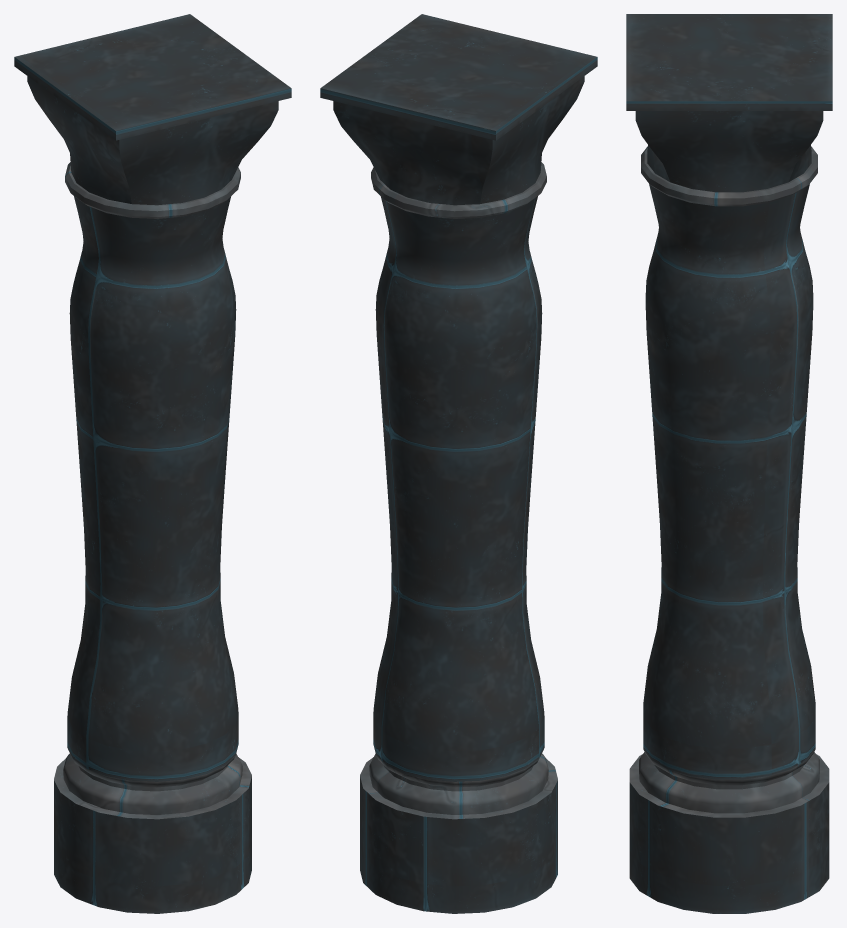
The model's file is Cathedral_Pillar_1.fbx.
3 views of the same model, side by side, from view 1: azimuth 30°, elevation 25°; view 2: azimuth 150°, elevation 25°; view 3: azimuth 270°, elevation 25° (orthographic).
Visible parts, largest first — view 1: Pillar_1; view 2: Pillar_1; view 3: Pillar_1.
Part boxes in pixels (x1=…): Pillar_1: x1=14, y1=14, x2=291, y2=913; Pillar_1: x1=320, y1=14, x2=597, y2=913; Pillar_1: x1=626, y1=14, x2=832, y2=913.
Bounding box in the file's own units: 208 × 903 × 208.
Materials: 1 (1 with a texture image).
